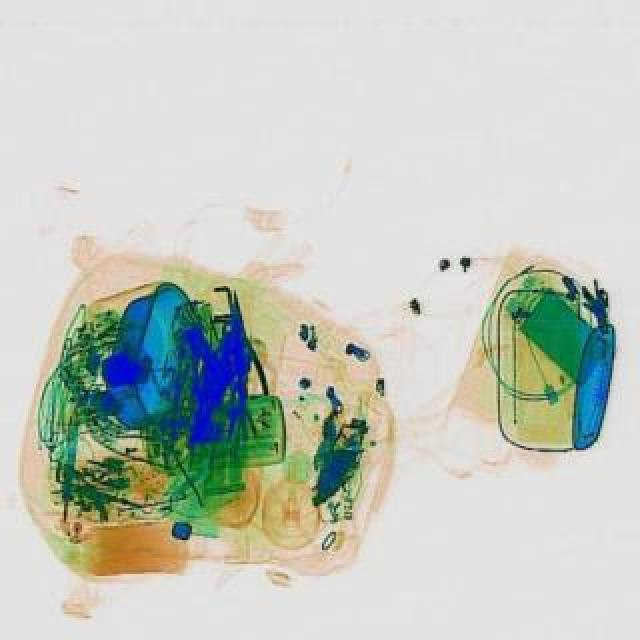wrench: (210, 286, 270, 402)
